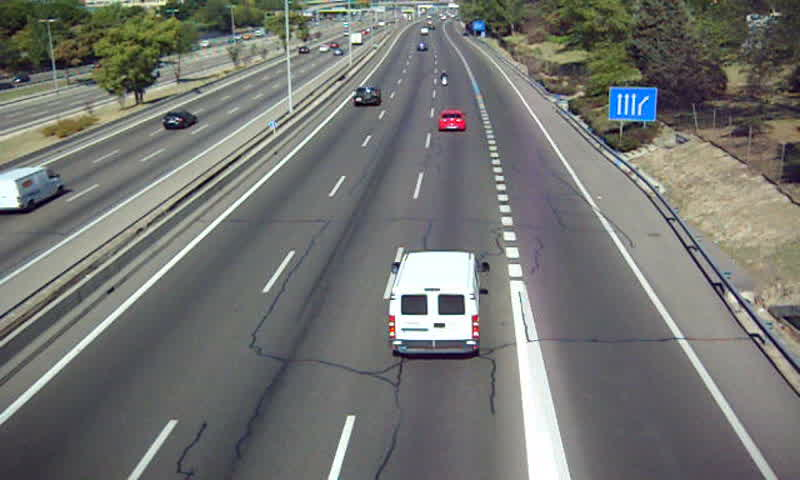car: (438, 111, 467, 133), (352, 86, 380, 106)
motorcycle: (438, 70, 451, 86)
van: (388, 251, 480, 355)
